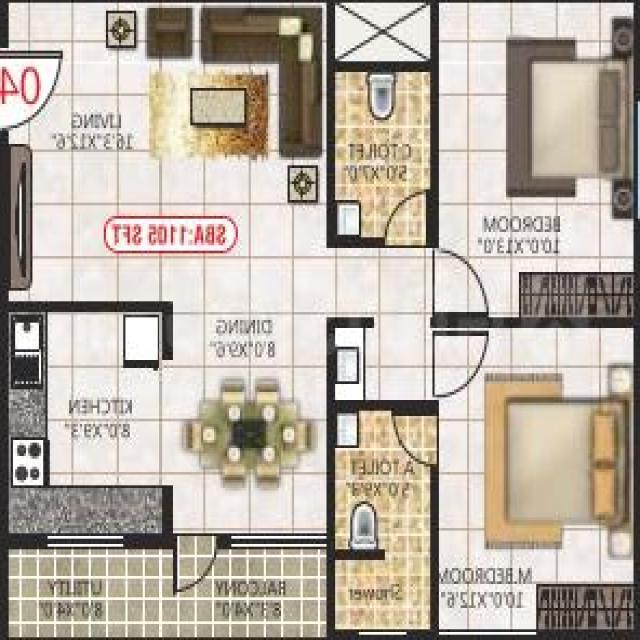Balcony-Sitout: (172, 540, 330, 637)
Bedroom: (434, 0, 635, 317)
Bedroom with Toilet: (331, 321, 637, 635)
Dining: (180, 370, 315, 490)
Enterance-Foyer: (0, 43, 64, 133)
Kitchen: (7, 311, 170, 535)
Living: (1, 1, 332, 307)
Toilet: (333, 410, 432, 631), (335, 70, 431, 242)
Utility: (7, 544, 171, 638)
